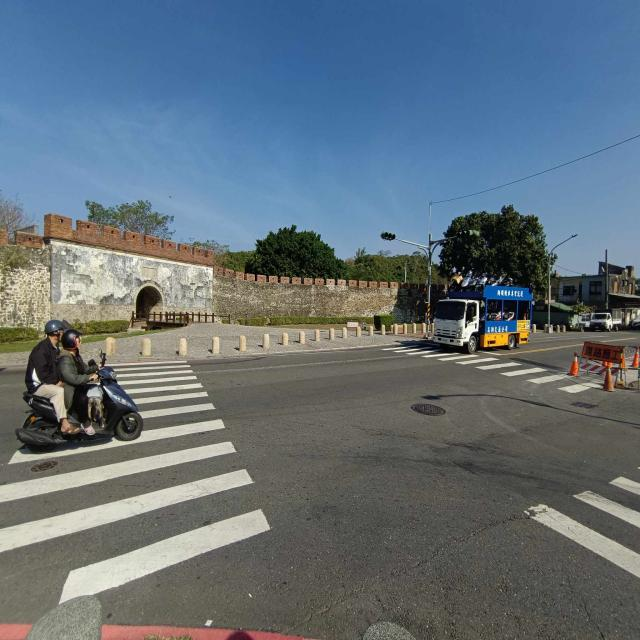person: (25, 320, 81, 435), (58, 328, 99, 437)
zebra crossing: (2, 361, 273, 608), (538, 465, 640, 611), (385, 341, 604, 394)
